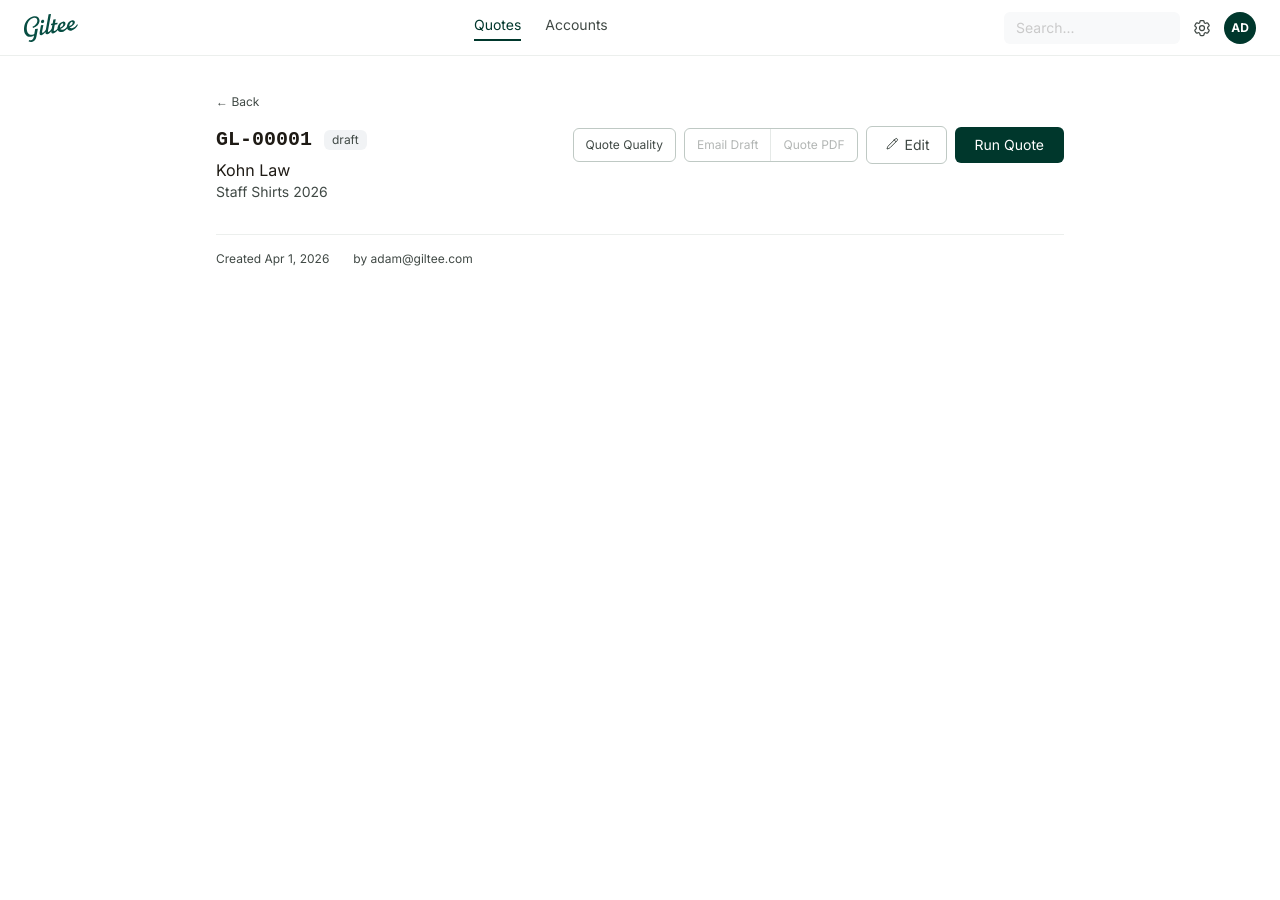
Test: ViewQuote — draft › opens edit panel when Edit is clicked
Click the button "Edit" at (906, 145), box [866,126,946,164]
(page scrolled)
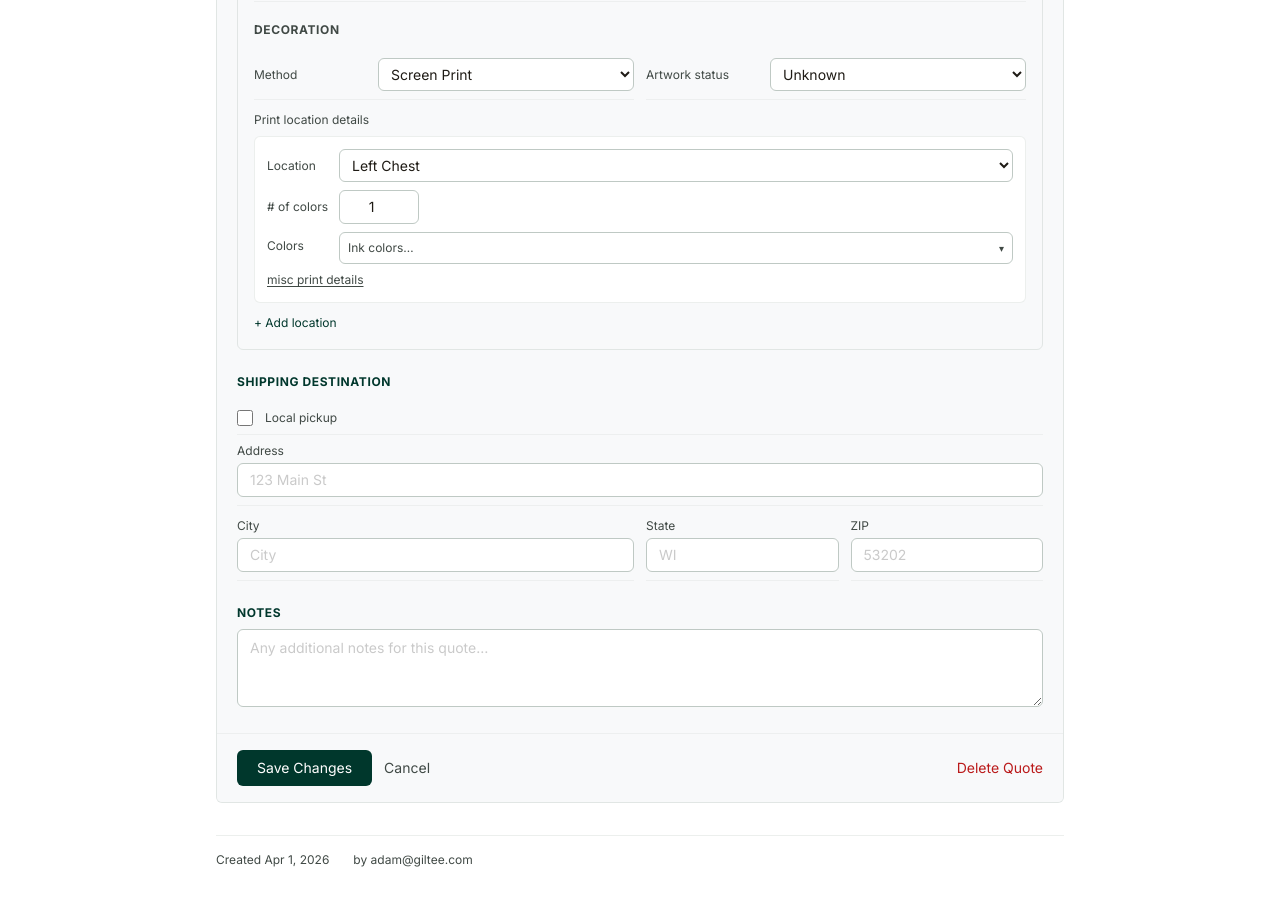
Expected: the button "Save Changes" is shown, [237,750,372,786]
Expected: the button "Cancel" is shown, [384,758,430,778]
